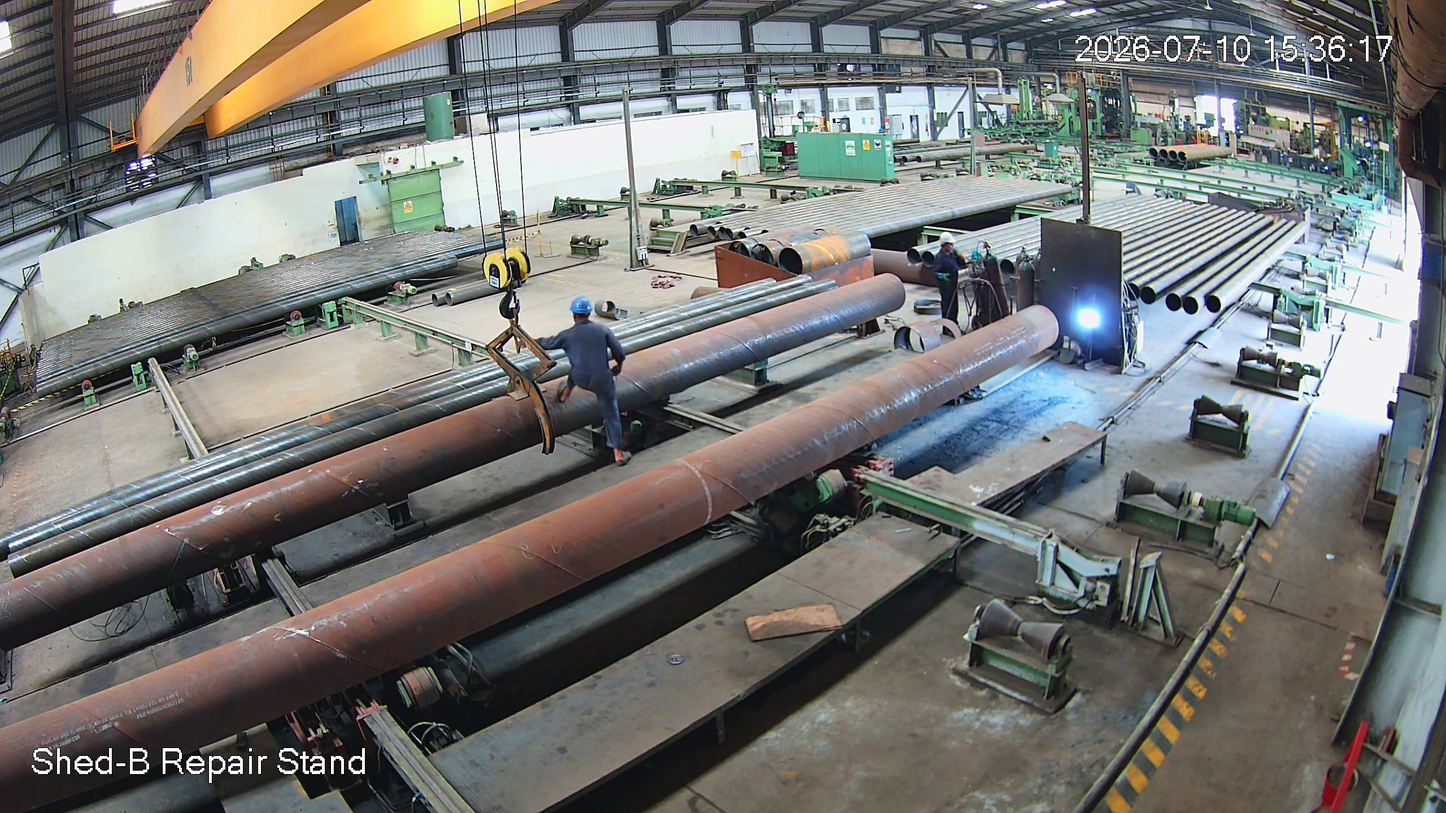Helmet: (562, 290, 605, 334), (932, 227, 968, 264)
Person: (544, 294, 654, 469), (925, 231, 968, 333)
